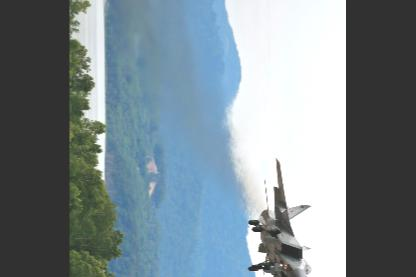Mig31: (248, 156, 313, 276)
